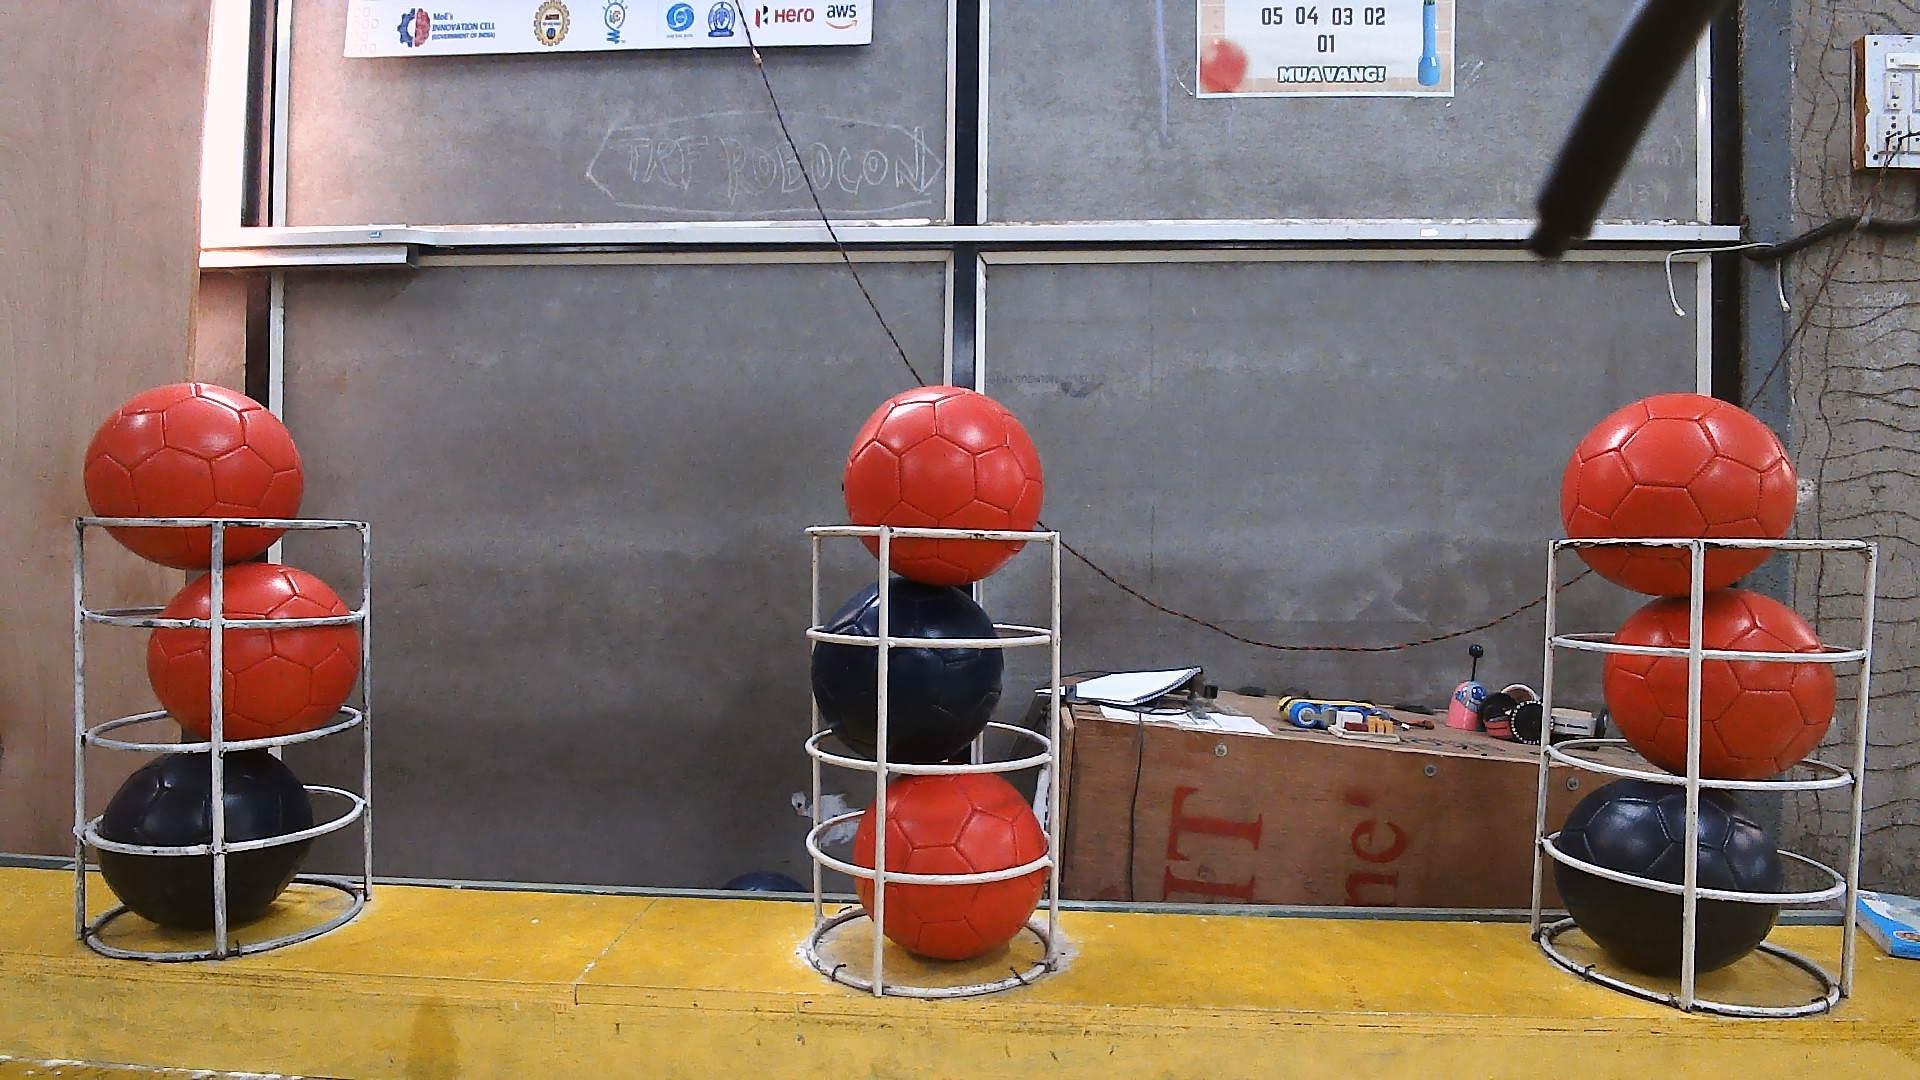dhoka: (1552, 781, 1785, 977), (94, 750, 315, 930), (810, 578, 1005, 765)
laale: (1560, 394, 1796, 596), (1605, 588, 1837, 781), (83, 382, 303, 570), (844, 386, 1043, 585), (146, 563, 364, 742), (852, 773, 1050, 960)
